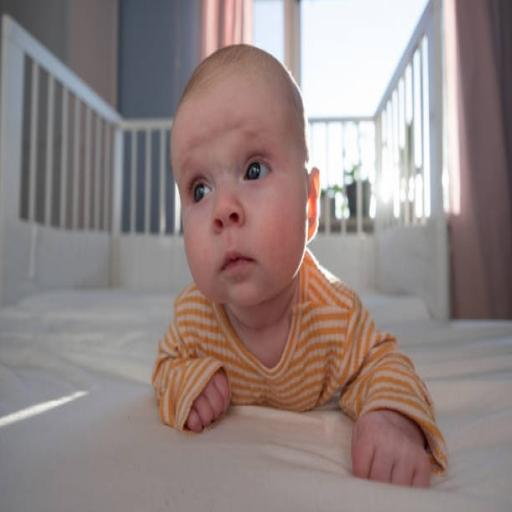baby: (153, 46, 446, 486)
crib: (0, 2, 511, 511), (310, 3, 449, 319)
